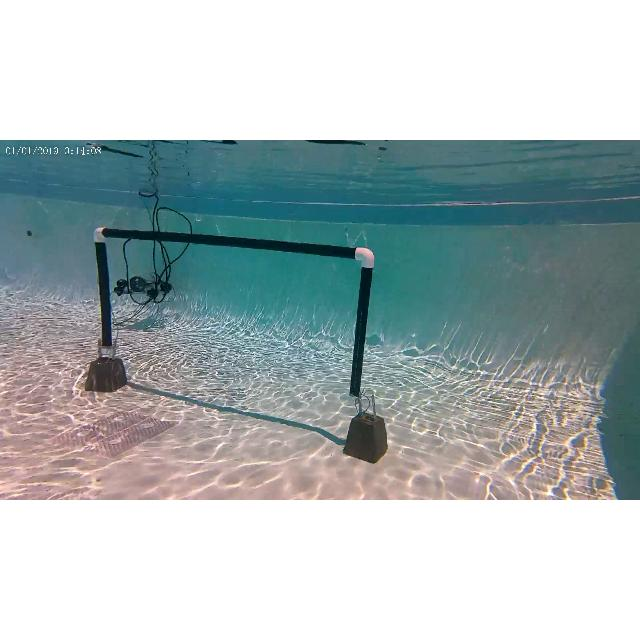prequal gate: (93, 228, 374, 408)
prequal gate leg l: (88, 228, 130, 398)
prequal gate leg r: (338, 237, 390, 465)
